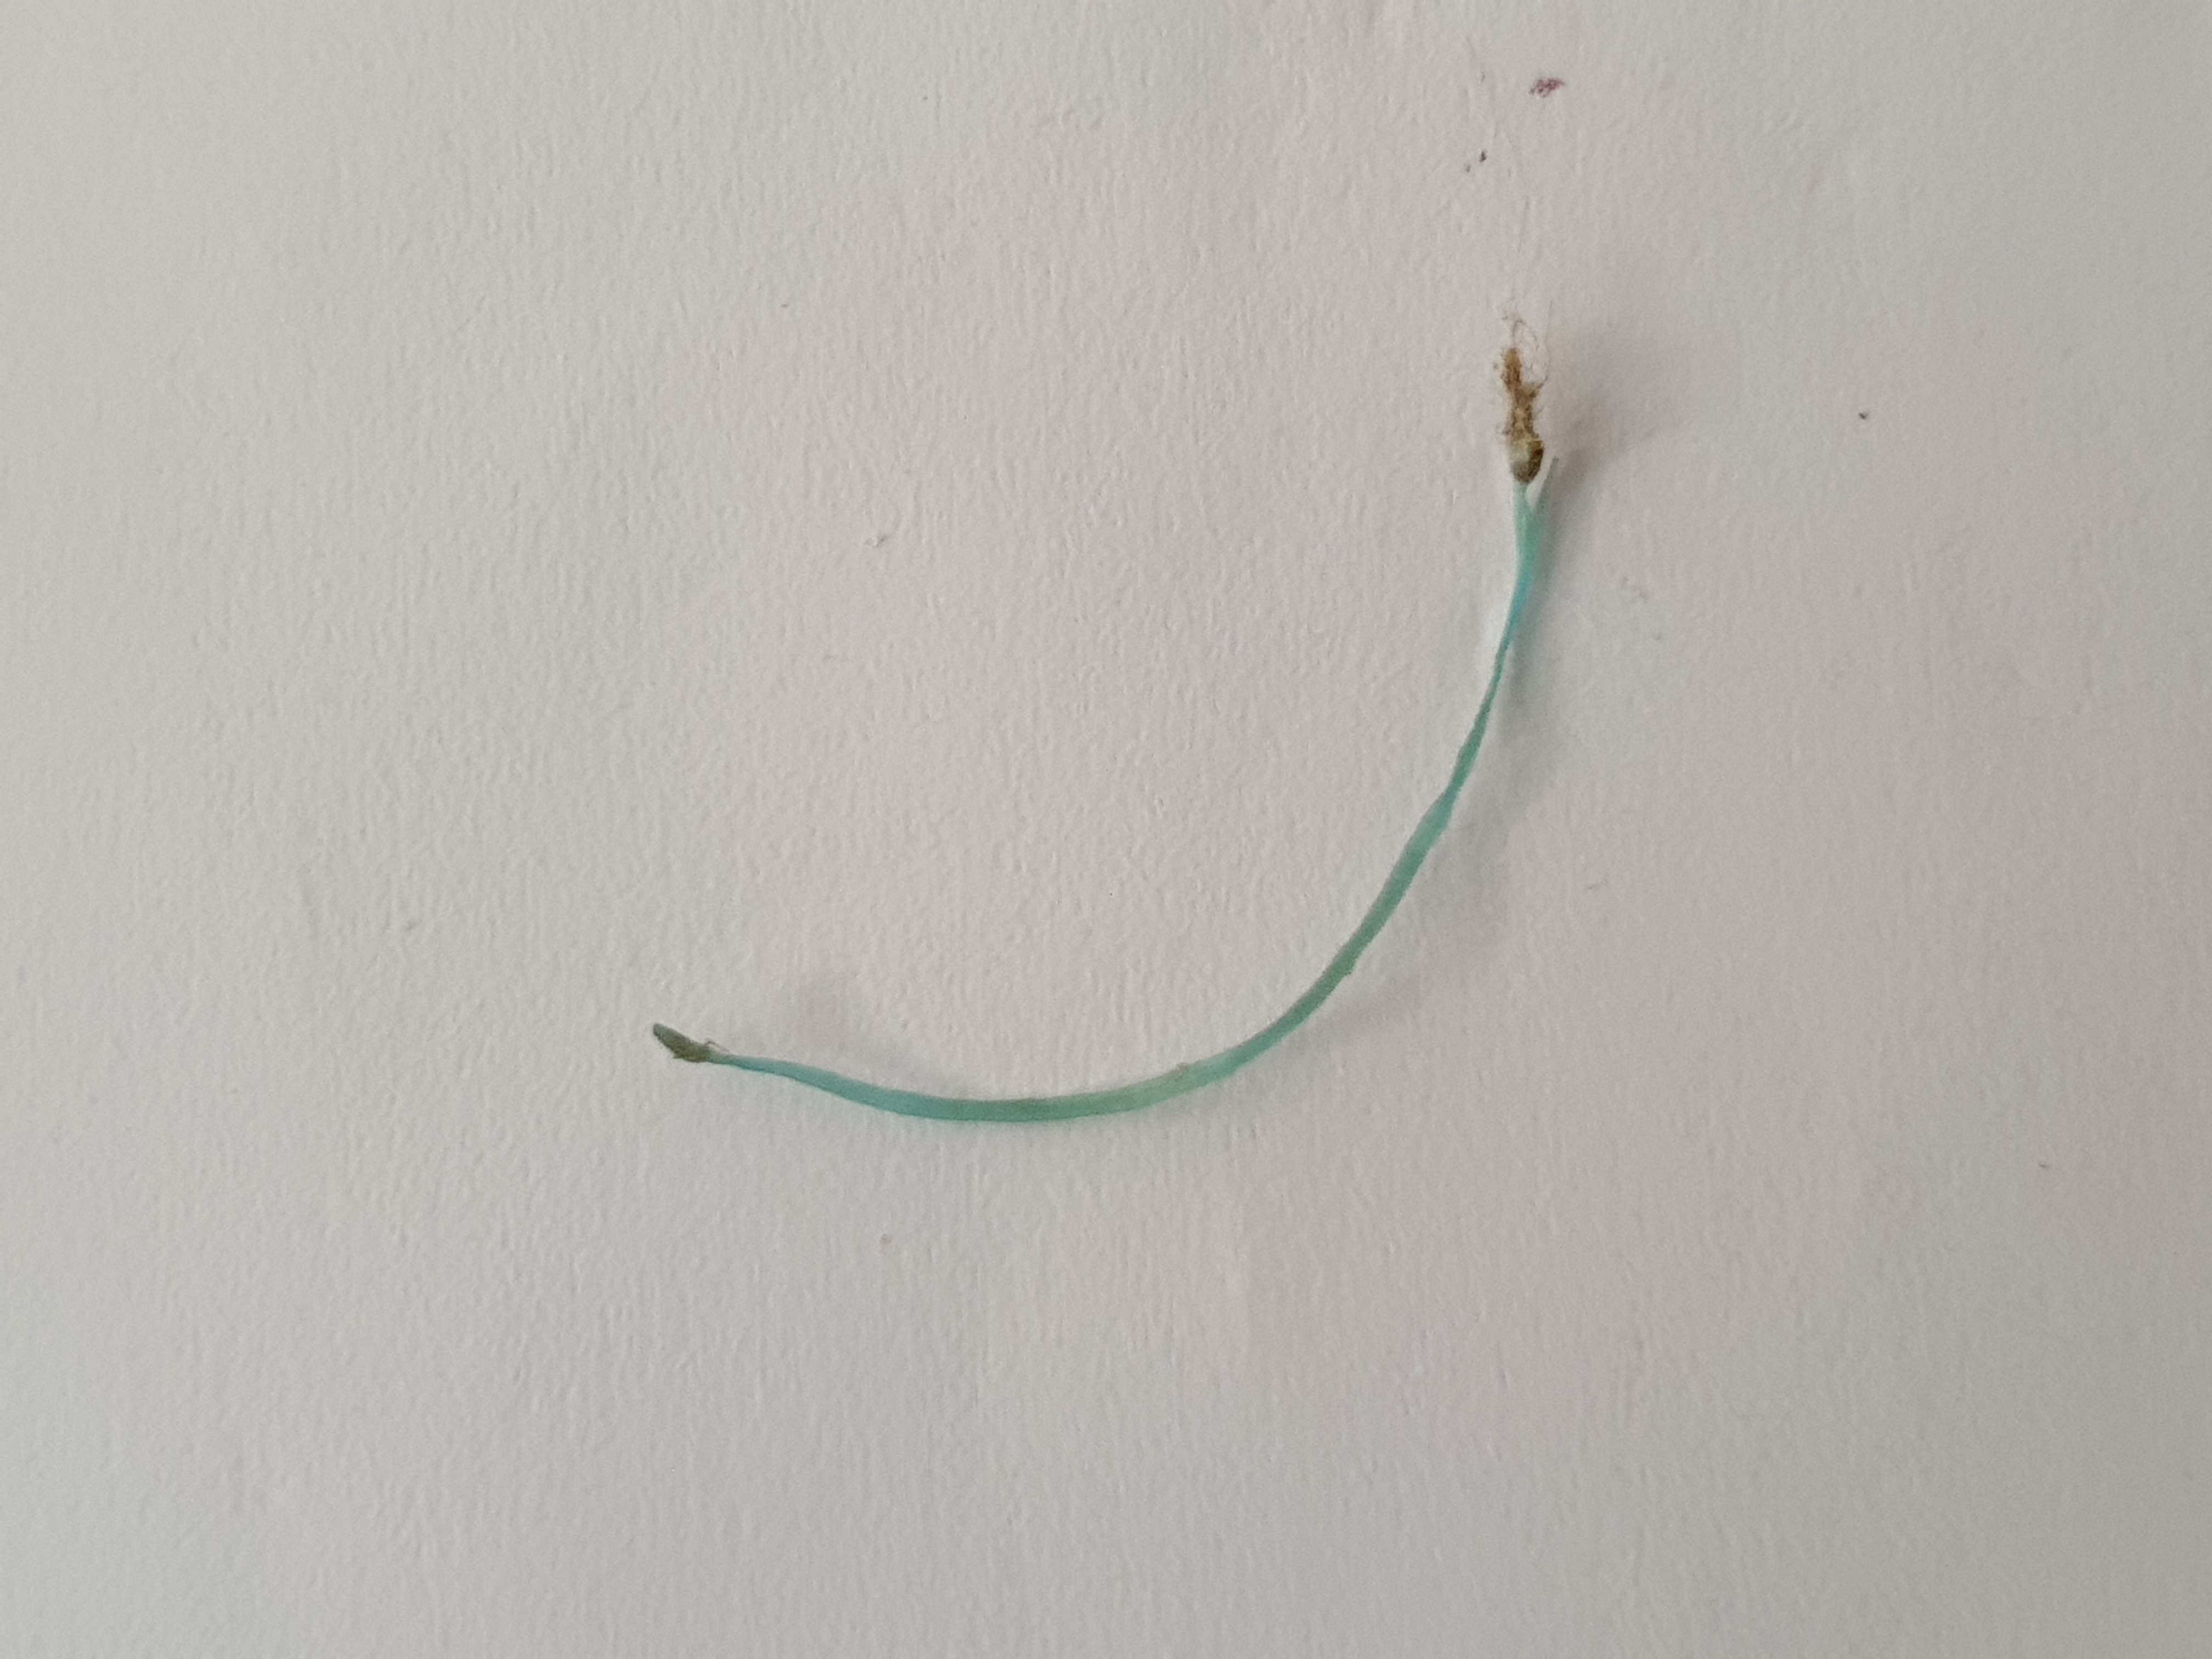thread: (631, 286, 1669, 1164)
